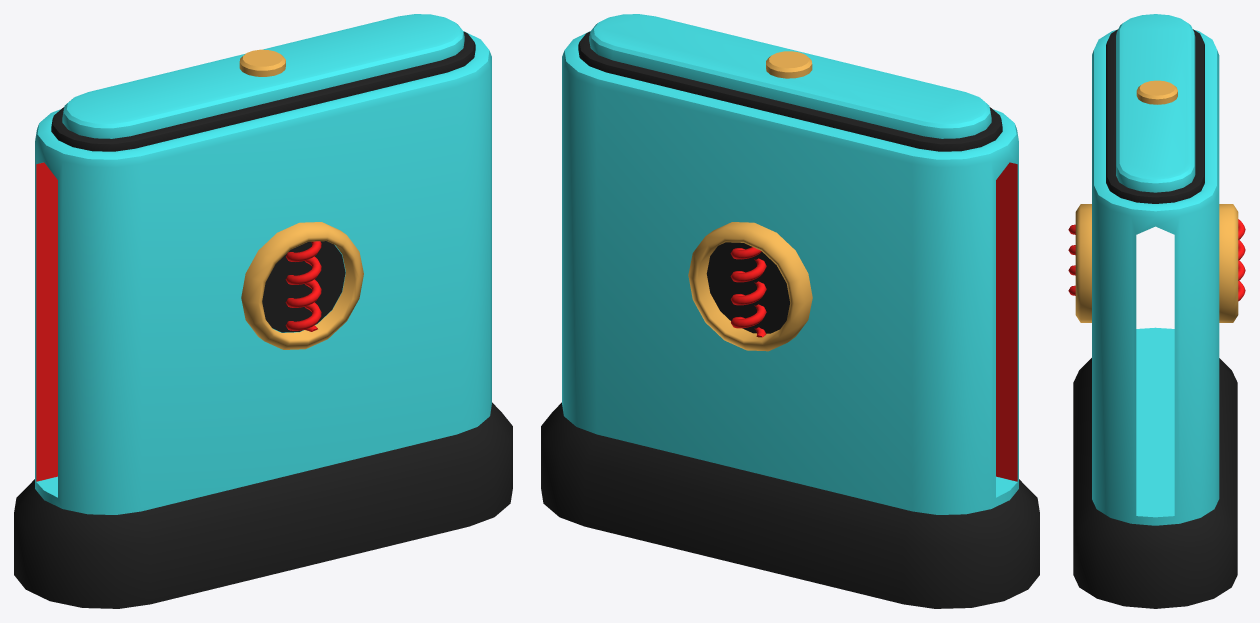
The model's file is Walking-Toaster.FBX.
3 views of the same model, side by side, from view 1: azimuth 30°, elevation 25°; view 2: azimuth 150°, elevation 25°; view 3: azimuth 270°, elevation 25° (orthographic). The views are drawn at different scales.
Parts seen in each view (by area): view 1: Toaster-Body, Toaster-Base, Heat-Wall, Top-Trim, PeekHole, Peekhole-black, Heat-Filament, Top-Knob; view 2: Toaster-Body, Toaster-Base, Heat-Wall, PeekHole001, Top-Trim, Peekhole-black001, Heat-Filament001, Top-Knob; view 3: Toaster-Body, Toaster-Base, Top-Trim, PeekHole001, PeekHole, Top-Knob, Heat-Filament001, Heat-Filament.
Part boxes in pixels (bbox=[...]): Toaster-Body: bbox=[35, 14, 491, 514]; Toaster-Base: bbox=[14, 402, 512, 608]; Heat-Wall: bbox=[36, 162, 57, 481]; Top-Trim: bbox=[51, 31, 475, 151]; PeekHole: bbox=[241, 222, 363, 349]; Peekhole-black: bbox=[262, 241, 345, 332]; Heat-Filament: bbox=[285, 241, 321, 331]; Top-Knob: bbox=[239, 49, 285, 76]; Toaster-Body: bbox=[562, 14, 1018, 514]; Toaster-Base: bbox=[541, 402, 1039, 608]; Heat-Wall: bbox=[996, 162, 1017, 481]; PeekHole001: bbox=[688, 222, 812, 351]; Top-Trim: bbox=[578, 31, 1002, 151]; Peekhole-black001: bbox=[706, 242, 789, 333]; Heat-Filament001: bbox=[730, 247, 766, 337]; Top-Knob: bbox=[766, 51, 812, 78]; Toaster-Body: bbox=[1092, 14, 1219, 525]; Toaster-Base: bbox=[1073, 358, 1237, 608]; Top-Trim: bbox=[1106, 29, 1204, 203]; PeekHole001: bbox=[1219, 204, 1238, 322]; PeekHole: bbox=[1075, 204, 1091, 322]; Top-Knob: bbox=[1136, 80, 1177, 104]; Heat-Filament001: bbox=[1238, 219, 1245, 301]; Heat-Filament: bbox=[1068, 224, 1075, 295].
Bounding box in the file's own units: 20.47 × 19.44 × 7.46.
